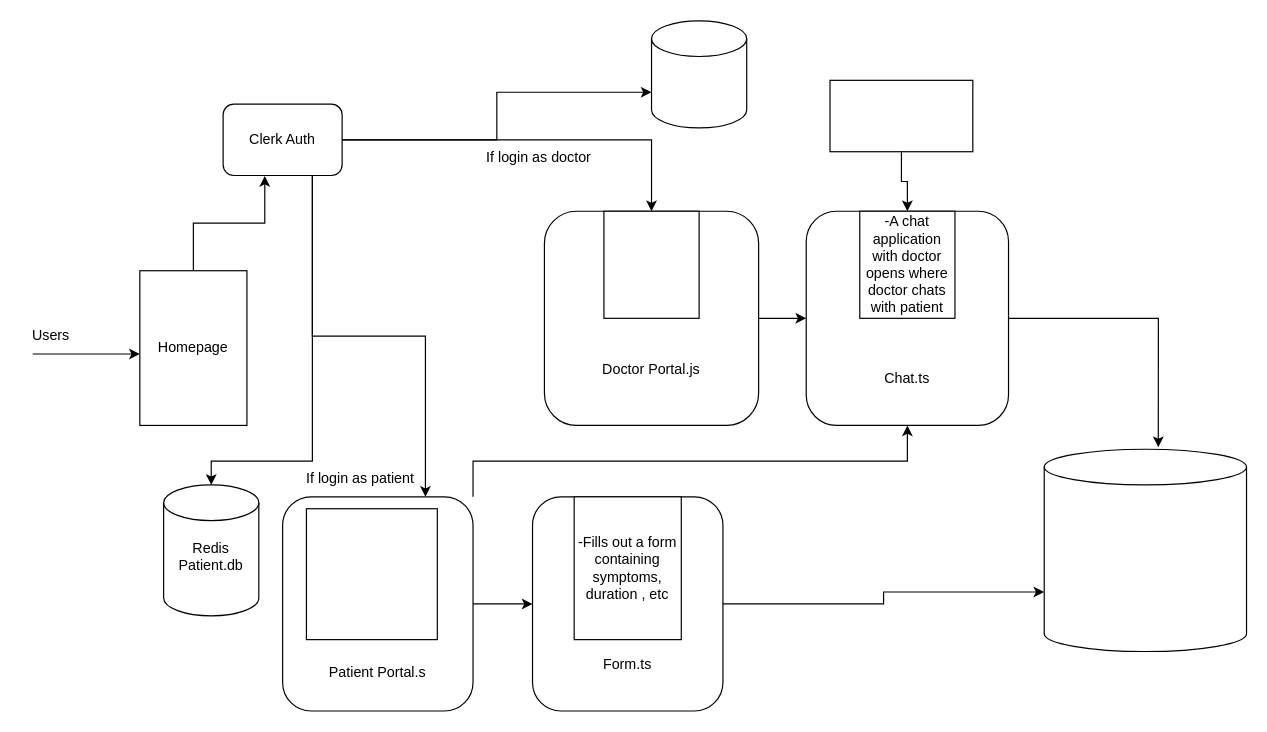
Image size: 1267x732. Some labels were removed from this diagram. The shapes that lost their labels are listed below. From the top down, each one's centre as x and y in pixels, then its label:
the point at 698,74: Redis Doctor Info.db
the point at 901,115: Socket.io
the point at 651,264: -Sees list of patients and chooses to respond
the point at 1145,550: Redis All Chat Exchange.Db
the point at 371,574: A patient - Sees list of doctors and what they specialize in -Chooses a doctor
